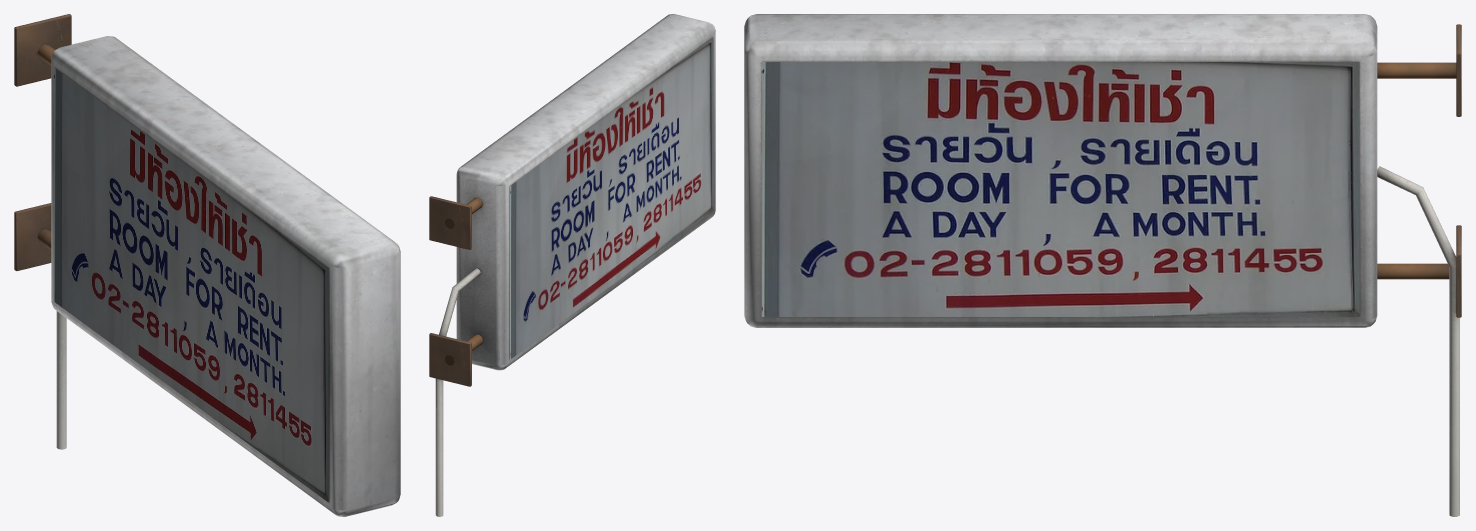
The model's file is signbox_room_for_rent.glb.
3 renders of one model, left to right at view 1: azimuth 30°, elevation 25°; view 2: azimuth 150°, elevation 25°; view 3: azimuth 270°, elevation 25°, orthographic. The views are drawn at different scales.
Parts seen in each view (by area): view 1: signbox_room_for_rent; view 2: signbox_room_for_rent; view 3: signbox_room_for_rent.
Part boxes in pixels (box(x1,y1,x2,y2)): signbox_room_for_rent: box(14, 14, 400, 516); signbox_room_for_rent: box(429, 14, 715, 516); signbox_room_for_rent: box(744, 14, 1461, 516).
Size of the model in its own units: 0.124 by 0.75 by 1.02.
1 material, 1 textured.
